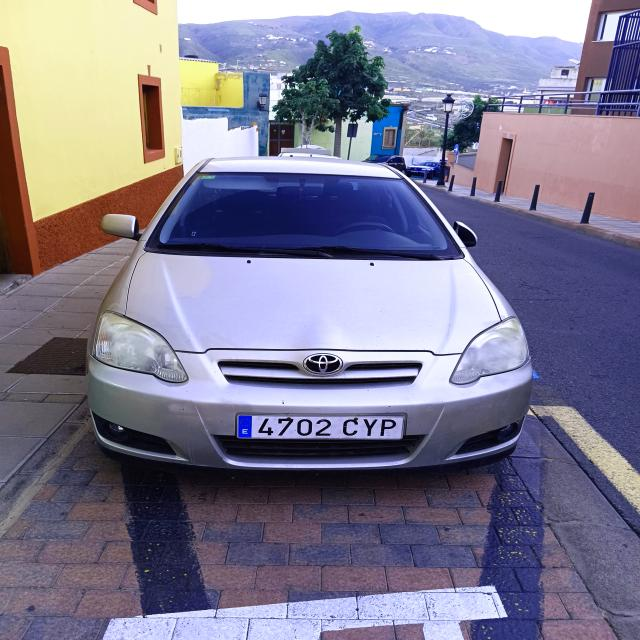football: (236, 414, 405, 439)
